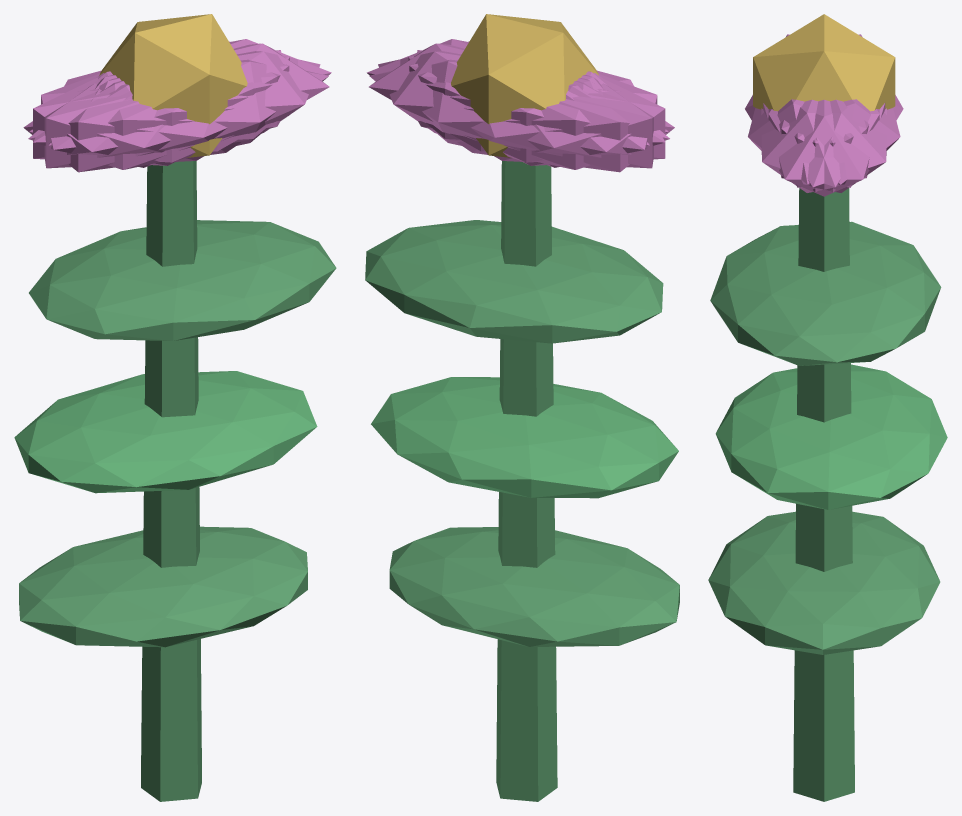
File: excoecaria-agallocha.glb
3 views of the same model, side by side, from view 1: azimuth 30°, elevation 25°; view 2: azimuth 150°, elevation 25°; view 3: azimuth 270°, elevation 25° (orthographic).
Visible parts, largest first — view 1: leaf2, leaf1, leaf0, stem, center, petal1, petal6, petal2, petal5, petal7, petal0, petal4 (+2 smaller); view 2: leaf2, leaf1, leaf0, stem, center, petal8, petal3, petal7, petal4, petal2, petal0, petal5 (+2 smaller); view 3: leaf2, leaf1, leaf0, stem, center, petal0, petal4, petal5, petal8, petal1.
Boxes of the visible parts, x1=… form: leaf2: x1=29, y1=220, x2=336, y2=340; leaf1: x1=14, y1=371, x2=317, y2=493; leaf0: x1=19, y1=526, x2=307, y2=647; stem: x1=141, y1=161, x2=201, y2=801; center: x1=99, y1=14, x2=247, y2=157; petal1: x1=28, y1=59, x2=328, y2=169; petal6: x1=23, y1=73, x2=240, y2=172; petal2: x1=44, y1=50, x2=281, y2=168; petal5: x1=48, y1=51, x2=320, y2=162; petal7: x1=33, y1=56, x2=289, y2=165; petal0: x1=99, y1=43, x2=329, y2=151; petal4: x1=29, y1=39, x2=331, y2=142; leaf2: x1=365, y1=220, x2=663, y2=343; leaf1: x1=371, y1=377, x2=678, y2=498; leaf0: x1=389, y1=527, x2=679, y2=646; stem: x1=496, y1=161, x2=557, y2=801; center: x1=451, y1=14, x2=598, y2=157; petal8: x1=369, y1=59, x2=669, y2=169; petal3: x1=457, y1=73, x2=674, y2=172; petal7: x1=417, y1=50, x2=653, y2=168; petal4: x1=378, y1=51, x2=649, y2=162; petal2: x1=408, y1=56, x2=665, y2=165; petal0: x1=369, y1=43, x2=599, y2=151; petal5: x1=367, y1=39, x2=668, y2=142; leaf2: x1=710, y1=221, x2=941, y2=365; leaf1: x1=715, y1=364, x2=947, y2=509; leaf0: x1=708, y1=511, x2=940, y2=654; stem: x1=793, y1=188, x2=854, y2=801; center: x1=753, y1=14, x2=895, y2=111; petal0: x1=763, y1=99, x2=885, y2=196; petal4: x1=768, y1=99, x2=886, y2=192; petal5: x1=761, y1=99, x2=879, y2=192; petal8: x1=779, y1=99, x2=900, y2=184; petal1: x1=748, y1=99, x2=868, y2=184.
Size of the model in its own units: 0.1498 by 0.359 by 0.1031.
